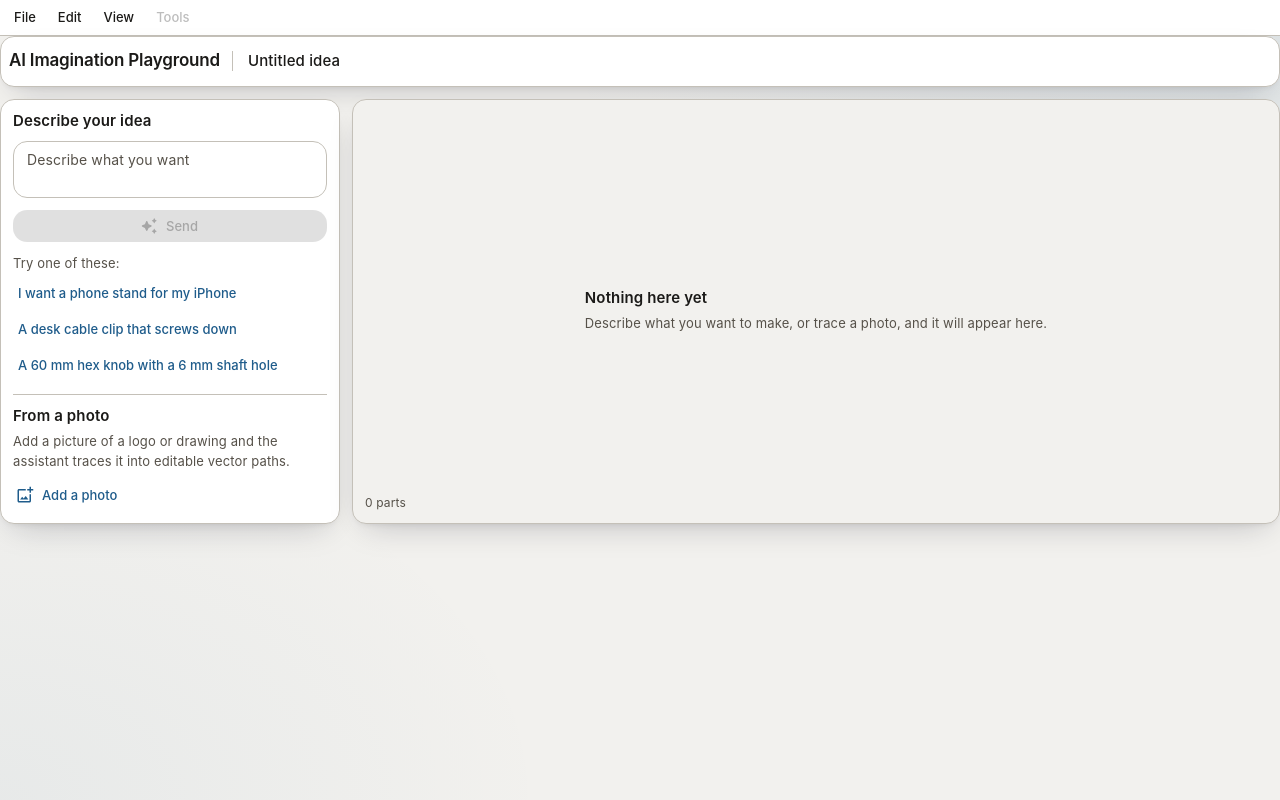
it: a turn produces a proposal that is not applied on its own
Click the button "I want a phone stand for my iPhone". click: click(170, 294)
box: [13,278,327,310]
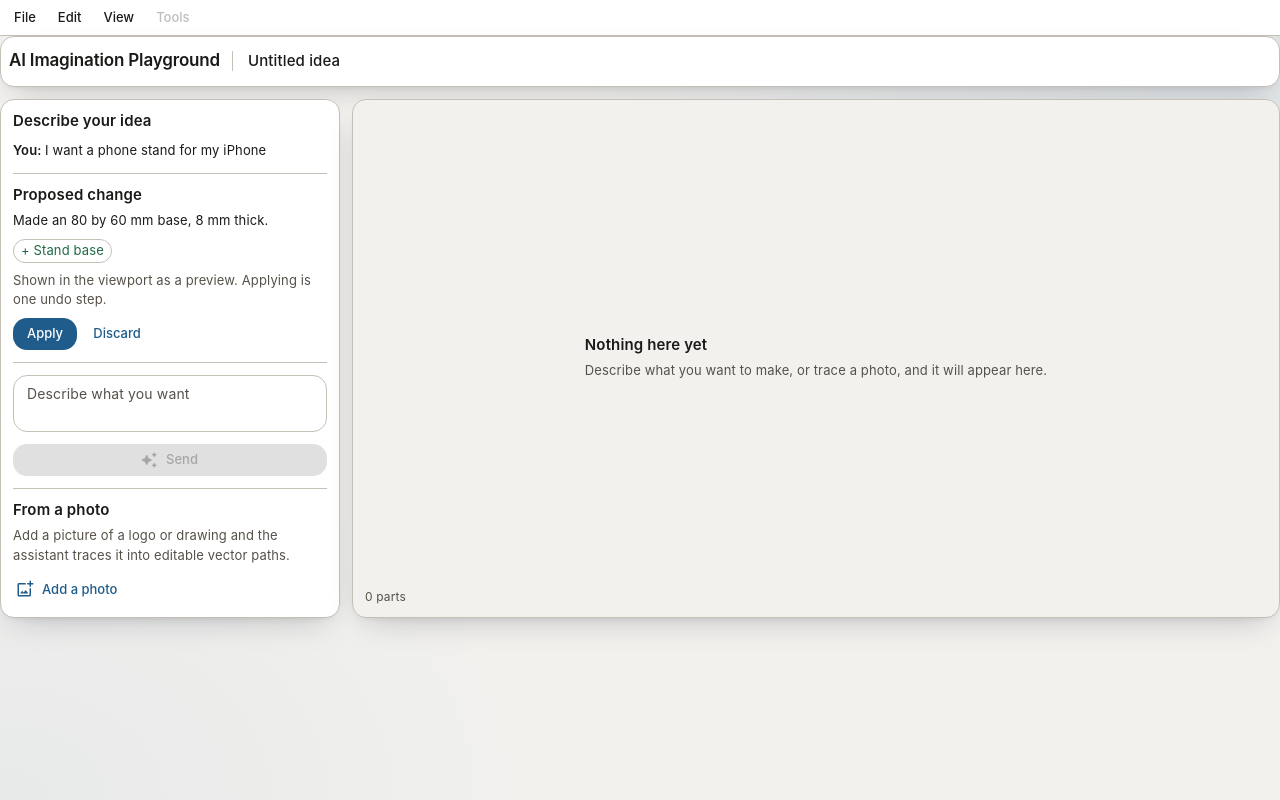
Check: the heading "Proposed change" is shown, box [13,185,142,204]
Check: the text "Made an 80 by 60 mm base, 8 mm thick." is shown, box [13,212,268,228]
Check: the text "+ Stand base" is shown, box [14,241,111,260]
Click the button "File". click: click(25, 18)
box: [4,2,46,34]
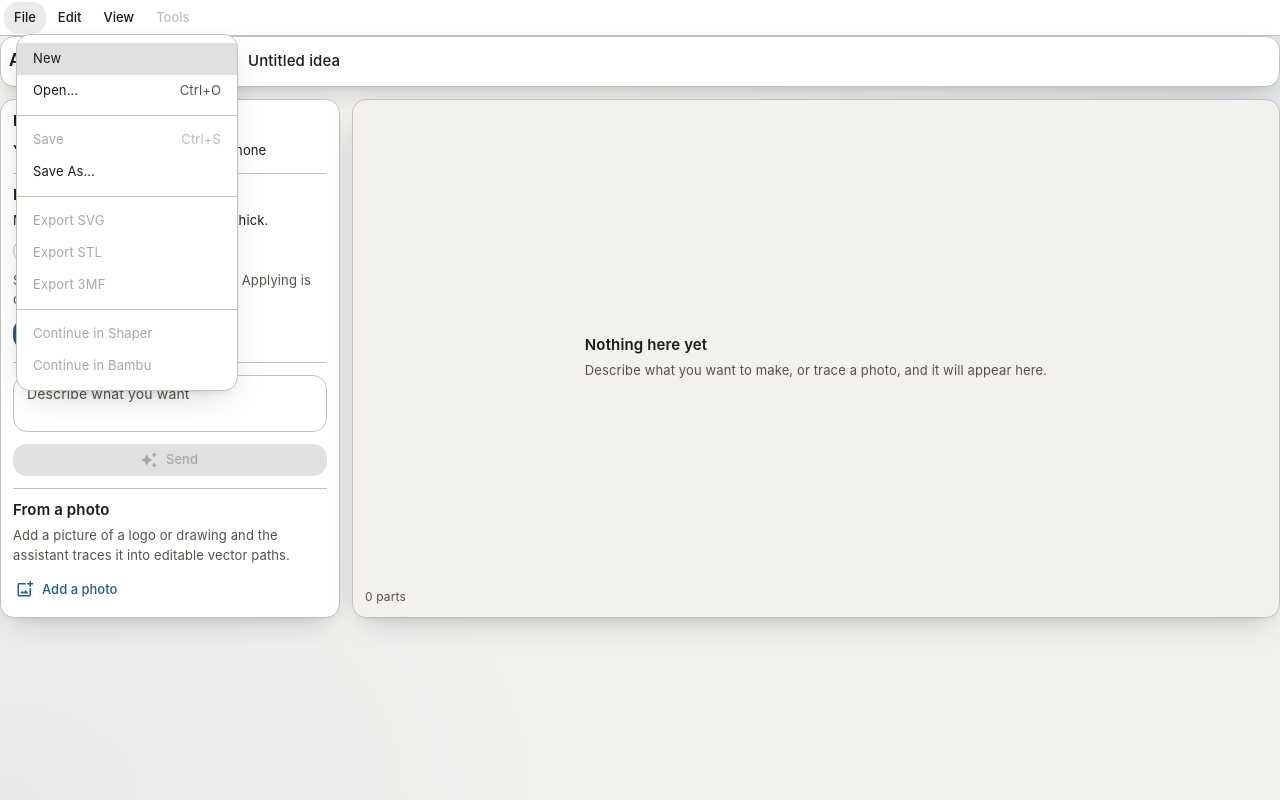
Press Escape
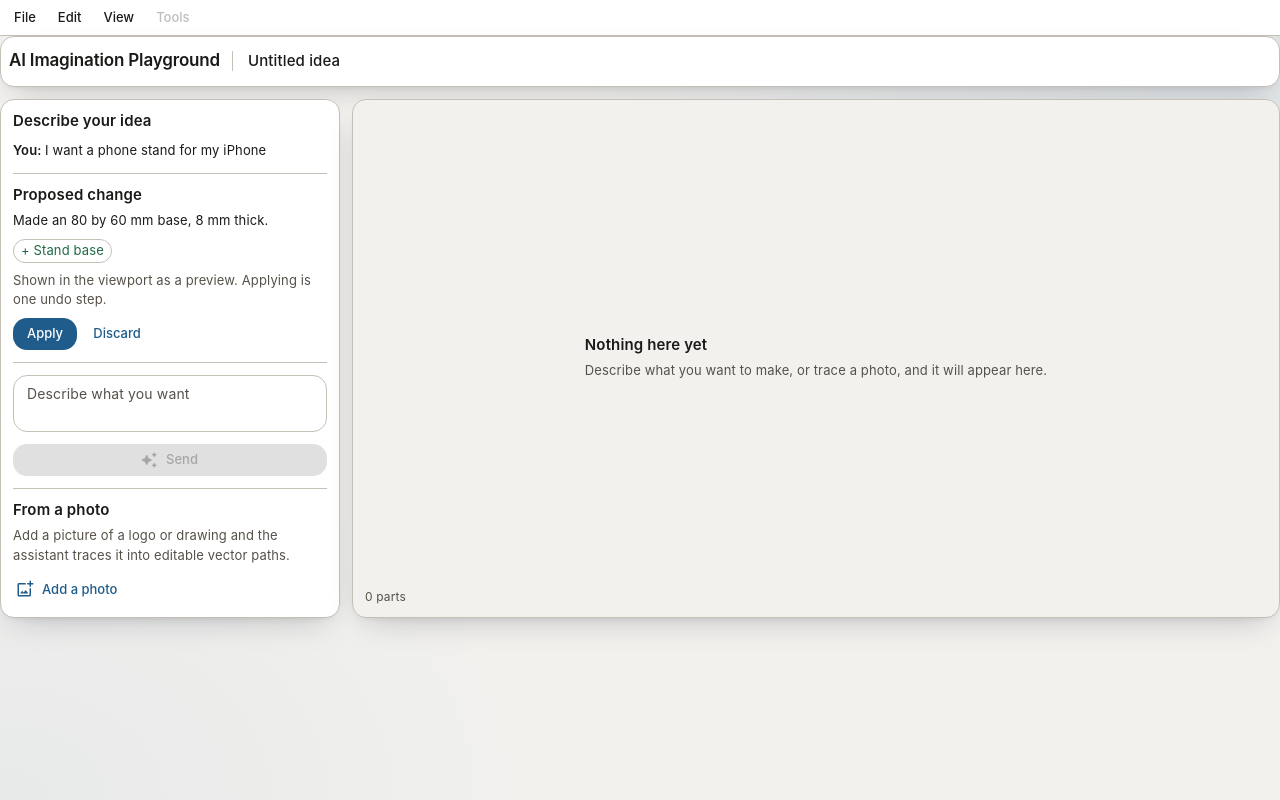
Check: the menu is gone
